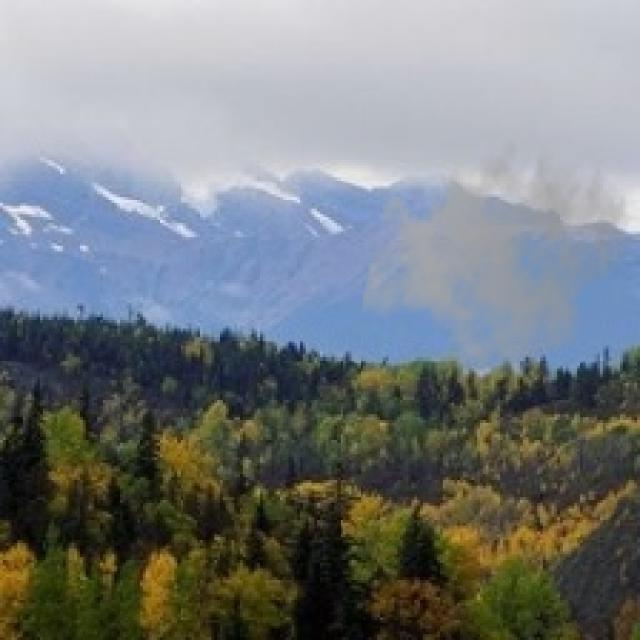Smoke: (359, 128, 632, 380)
